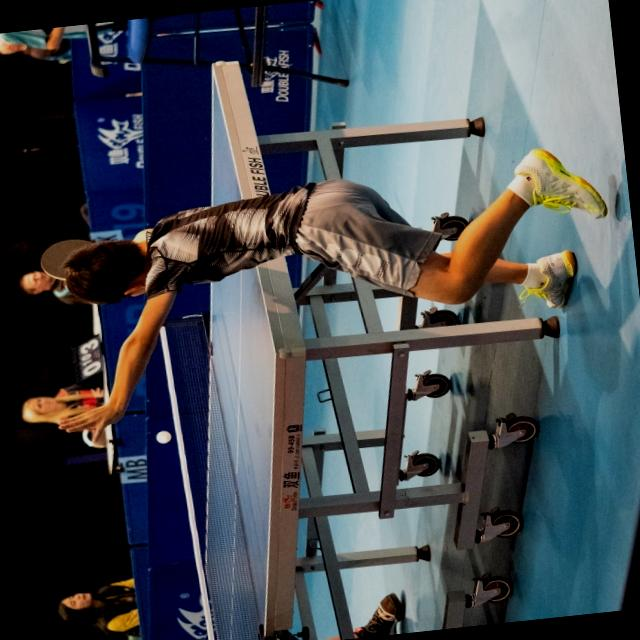TT Net: (155, 311, 265, 640)
TT Racket: (31, 231, 113, 288)
TT Table: (200, 66, 282, 640)
